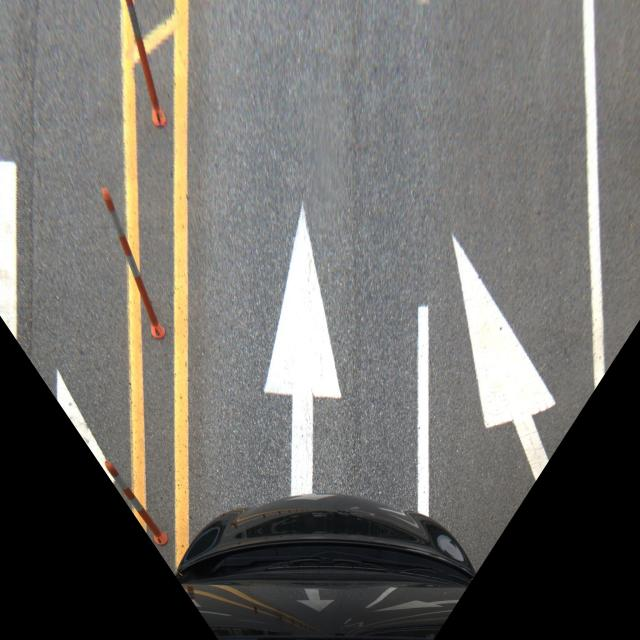chang_lane_left: (423, 232, 612, 584)
